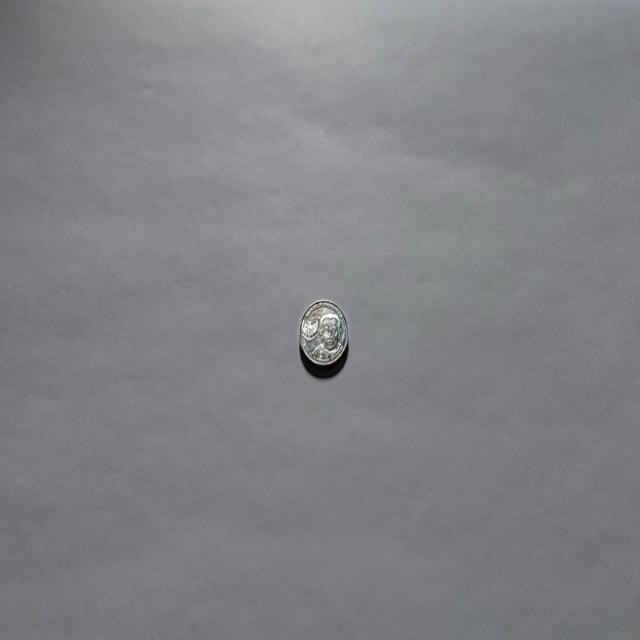seratus rupiah: (298, 298, 348, 374)
